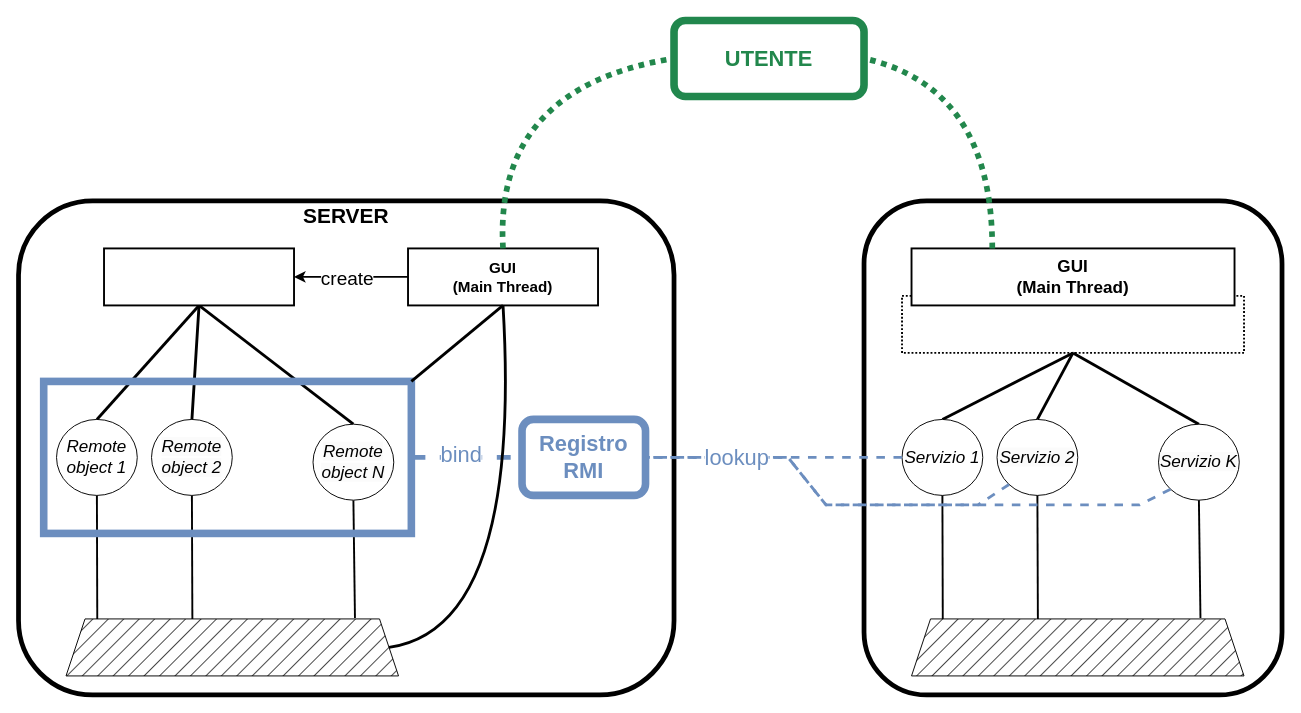
Image size: 1301x713. Some labels were removed from this diagram. The box of each missing label's shape, as (x1, y1, x2, y2) in pixels:
CLIENT: (861, 198, 1284, 697)
Controller GUI: (901, 294, 1244, 353)
DataBase e Business Logic: (65, 618, 399, 676)
Elaborazione dati: (911, 618, 1244, 676)
Server RMI (Thread): (103, 247, 294, 306)
